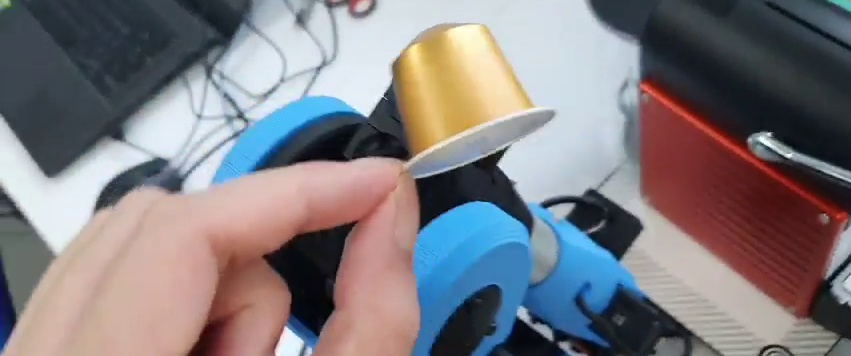capsule_8: (388, 17, 557, 181)
